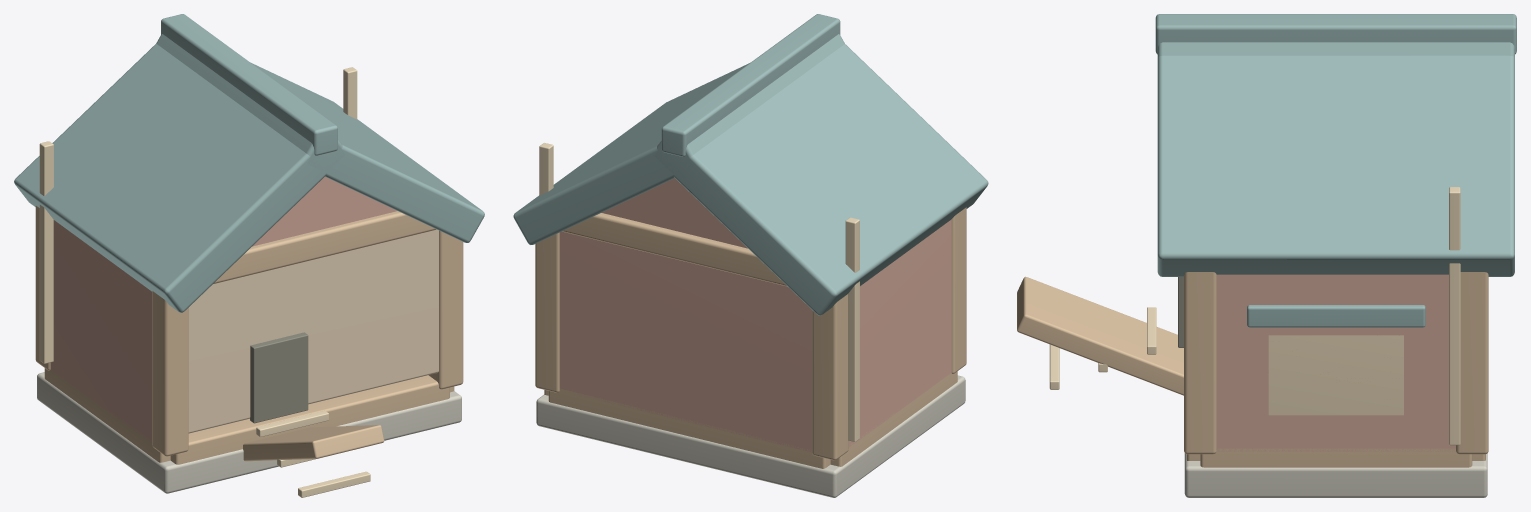
Rendered from chicken-coop-complete.glb.
3 views of the same model, side by side, from view 1: azimuth 30°, elevation 25°; view 2: azimuth 150°, elevation 25°; view 3: azimuth 270°, elevation 25° (orthographic). The views are drawn at different scales.
Visible parts, largest first — view 1: Padded roof plane.022, Secure coop front, Side panel.022, Padded roof plane.023, Rounded stone footing.027, Sill beam.108, Ridge cap.011, Corner post.080, Eave beam.034, Small pop hole, Gable cladding.022, Corner post.082 (+7 smaller); view 2: Padded roof plane.022, Back panel.009, Side panel.022, Padded roof plane.023, Rounded stone footing.027, Ridge cap.011, Eave beam.035, Corner post.081, Sill beam.109, Gable cladding.023, Corner post.083, Back wall batten.009 (+3 smaller); view 3: Padded roof plane.023, Side panel.023, Nest box, Ridge cap.011, Rounded stone footing.027, Access ramp, Corner post.082, Corner post.083, Sill beam.111, Padded roof plane.022, Nest lid, Back wall batten.011.
Part boxes in pixels (box(x1,y1,x2,y2)): Padded roof plane.022: box(14, 43, 345, 312); Secure coop front: box(188, 229, 438, 433); Side panel.022: box(50, 220, 152, 443); Padded roof plane.023: box(156, 34, 484, 242); Rounded stone footing.027: box(37, 372, 461, 493); Sill beam.108: box(170, 375, 449, 464); Ridge cap.011: box(161, 14, 337, 155); Corner post.080: box(152, 291, 188, 456); Eave beam.034: box(213, 211, 436, 283); Small pop hole: box(250, 332, 308, 423); Gable cladding.022: box(252, 177, 396, 246); Corner post.082: box(428, 230, 463, 389); Padded roof plane.022: box(654, 44, 988, 315); Back panel.009: box(559, 231, 812, 452); Side panel.022: box(849, 219, 951, 447); Padded roof plane.023: box(513, 34, 844, 244); Rounded stone footing.027: box(536, 375, 965, 497); Ridge cap.011: box(661, 14, 840, 156); Eave beam.035: box(562, 213, 787, 286); Corner post.081: box(812, 294, 848, 460); Sill beam.109: box(548, 388, 830, 468); Gable cladding.023: box(601, 178, 747, 248); Corner post.083: box(535, 232, 559, 392); Back wall batten.009: box(845, 217, 859, 442); Padded roof plane.023: box(1157, 55, 1514, 276); Side panel.023: box(1216, 274, 1455, 451); Nest box: box(1268, 335, 1403, 415); Ridge cap.011: box(1155, 14, 1516, 54); Rounded stone footing.027: box(1184, 453, 1487, 497); Access ramp: box(1017, 276, 1183, 395); Corner post.082: box(1184, 272, 1216, 454); Corner post.083: box(1456, 272, 1488, 454); Sill beam.111: box(1200, 448, 1472, 467); Padded roof plane.022: box(1157, 42, 1514, 56); Nest lid: box(1247, 305, 1425, 327); Back wall batten.011: box(1449, 187, 1460, 445).
Bounding box in the file's own units: 2.22 × 2.25 × 2.57.
